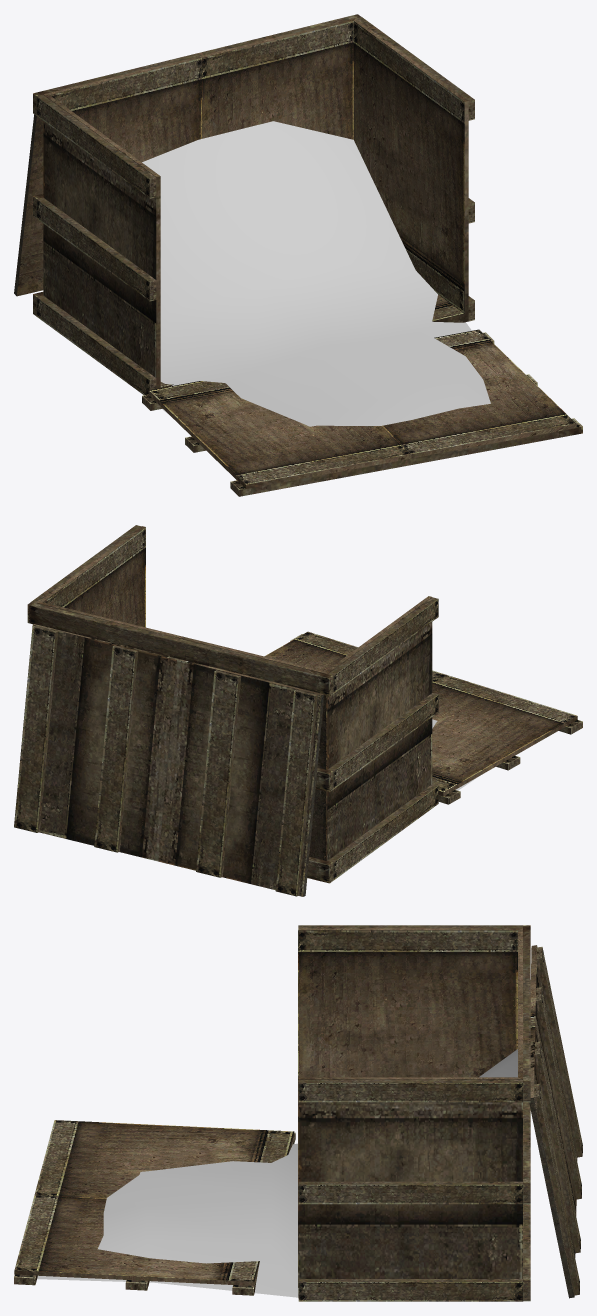
Rendered from storage_box_wood02_open_coal.DAE.
3 renders of one model, top to bottom at view 1: azimuth 30°, elevation 25°; view 2: azimuth 150°, elevation 25°; view 3: azimuth 270°, elevation 25°, orthographic. The views are drawn at different scales.
Parts seen in each view (by area): view 1: Box004, Plane001; view 2: Box004; view 3: Box004, Plane001.
Part boxes in pixels (x1,y1,x2,y2): Box004: (14, 14, 582, 496); Plane001: (142, 121, 490, 426); Box004: (14, 525, 582, 896); Box004: (14, 925, 582, 1301); Plane001: (37, 1049, 517, 1297).
Size of the model in its own units: 2.14 by 1.27 by 2.97.
